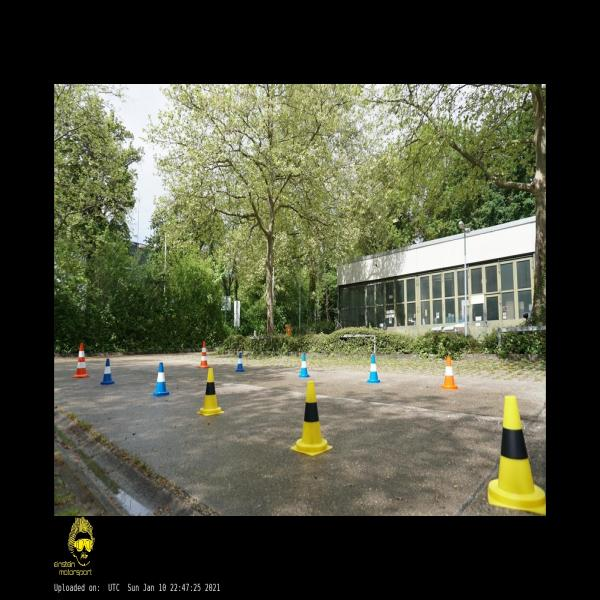blue_cone: (152, 362, 170, 396), (366, 355, 381, 383), (100, 358, 114, 384), (298, 354, 310, 377), (235, 353, 245, 371)
large_orange_cone: (72, 343, 90, 378), (199, 341, 210, 368)
orange_cone: (440, 357, 458, 390)
yellow_cone: (488, 395, 545, 515), (290, 381, 333, 456), (197, 368, 224, 416)
